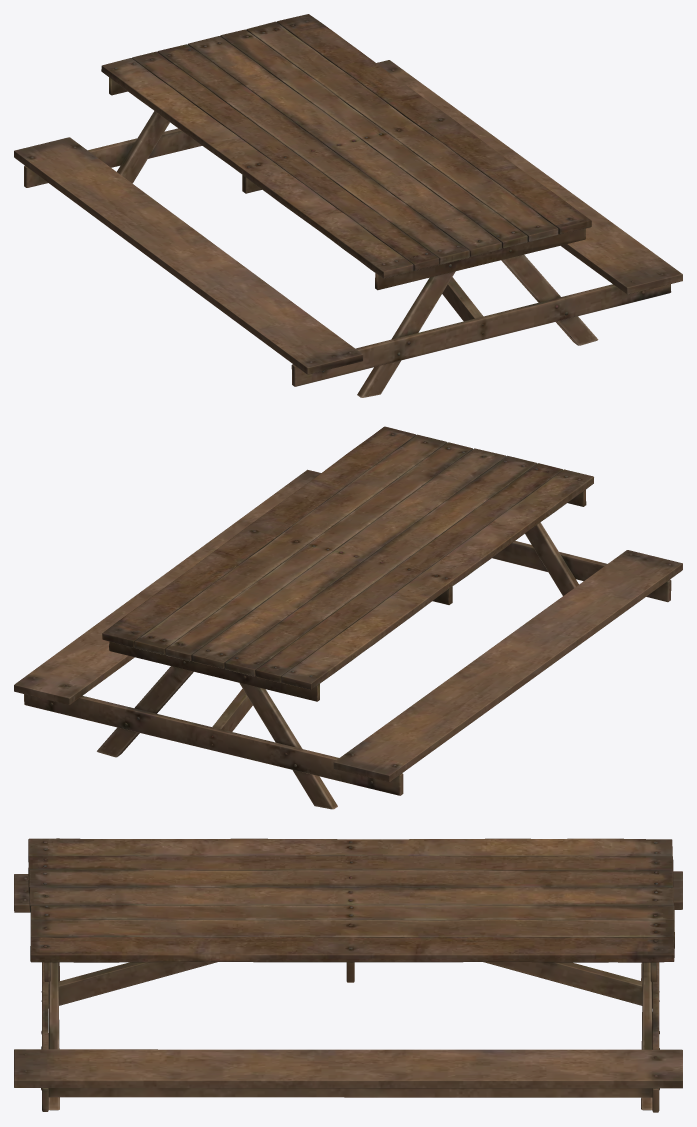
Rendered from wooden_picnic_table.glb.
3 renders of one model, top to bottom at view 1: azimuth 30°, elevation 25°; view 2: azimuth 150°, elevation 25°; view 3: azimuth 270°, elevation 25°, orthographic. The views are drawn at different scales.
Parts seen in each view (by area): view 1: wooden_picnic_table; view 2: wooden_picnic_table; view 3: wooden_picnic_table.
Part boxes in pixels (<box>): wooden_picnic_table: <box>14,14,682,397</box>; wooden_picnic_table: <box>14,426,682,809</box>; wooden_picnic_table: <box>14,838,682,1112</box>.
Size of the model in its own units: 2.24 by 0.746 by 3.02.
2 materials, 2 textured.
